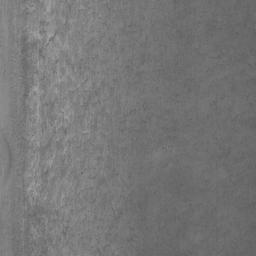Silk spot: (12, 0, 256, 256), (194, 132, 256, 197), (157, 200, 216, 238), (202, 228, 237, 256), (231, 7, 256, 36)
